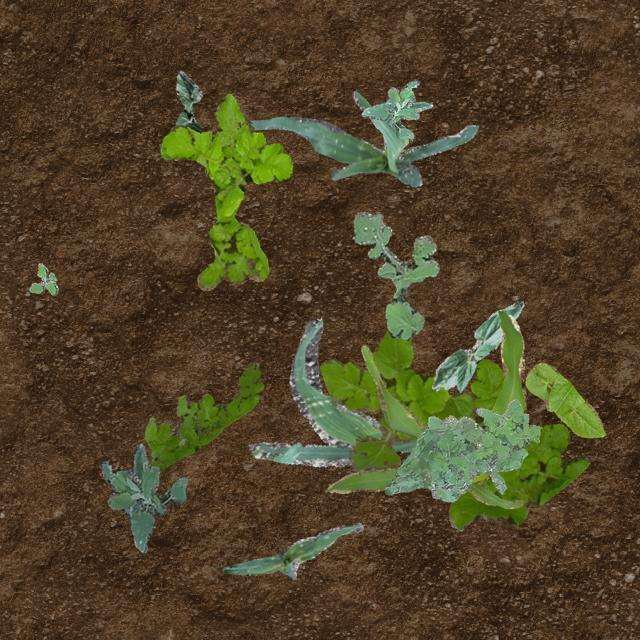crop: (323, 308, 524, 508), (248, 318, 414, 466), (248, 90, 478, 186), (430, 300, 522, 390), (222, 522, 364, 578), (524, 362, 604, 436), (174, 70, 202, 132)
weed: (318, 330, 588, 530), (160, 93, 292, 290), (384, 398, 540, 501), (144, 361, 262, 474), (352, 210, 438, 340), (98, 442, 186, 552), (361, 78, 432, 138), (28, 262, 56, 294)
